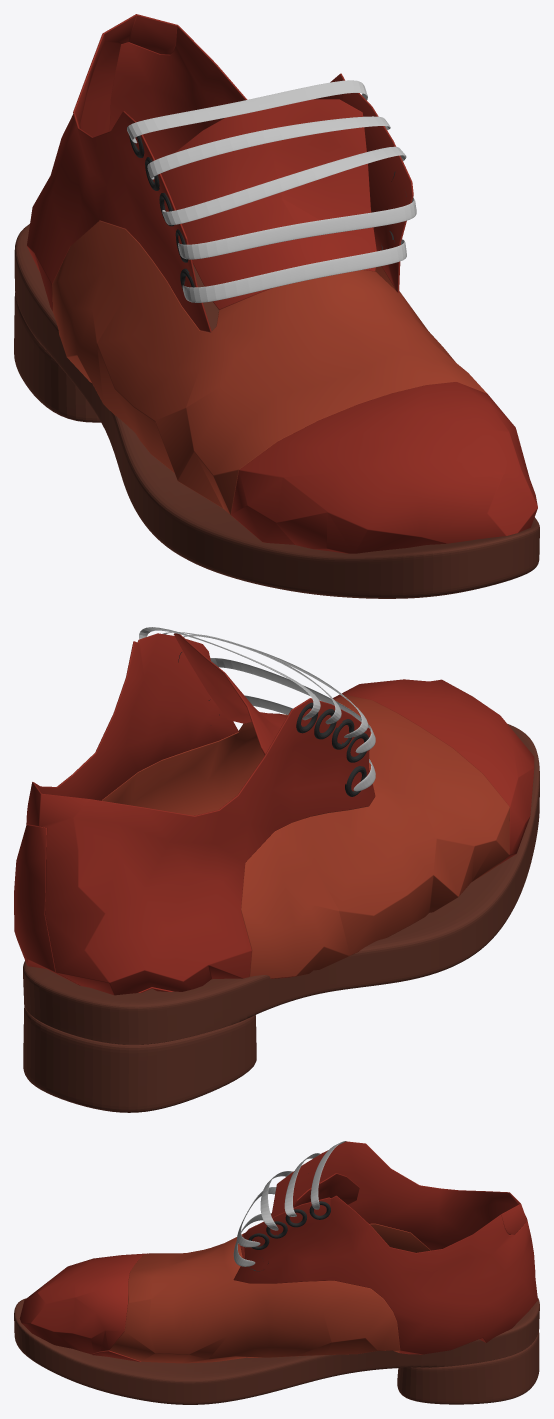
File: za1ot2derecha.fbx
The picture shows the model from 3 angles, top to bottom: view 1: azimuth 30°, elevation 25°; view 2: azimuth 150°, elevation 25°; view 3: azimuth 270°, elevation 25°; orthographic projection. The views are drawn at different scales.
Visible parts, largest first — view 1: ZAPATO1_3, Plane, Plane.002, Plane.005, Plane.001, Plane.004, Plane.003; view 2: ZAPATO1_3, Plane, Plane.002, Plane.004, Plane.005, Plane.001; view 3: ZAPATO1_3, Plane, Plane.001, Plane.004, Plane.003, Plane.002, Plane.005.
Boxes of the visible parts, x1,y1,x2,y2 form: ZAPATO1_3: (27,14,537,553); Plane: (14,224,539,598); Plane.002: (178,197,416,259); Plane.005: (182,239,406,302); Plane.001: (162,146,406,224); Plane.004: (127,80,367,143); Plane.003: (147,116,390,179); ZAPATO1_3: (14,633,534,995); Plane: (23,724,539,1112); Plane.002: (210,658,375,753); Plane.004: (139,627,320,720); Plane.005: (244,695,375,791); Plane.001: (183,634,367,737); ZAPATO1_3: (19,1141,537,1363); Plane: (14,1298,539,1404); Plane.001: (260,1171,293,1230); Plane.004: (310,1141,347,1209); Plane.003: (284,1153,320,1216); Plane.002: (237,1187,276,1247); Plane.005: (233,1213,271,1266).
Size of the model in its own units: 174 by 204 by 447.
